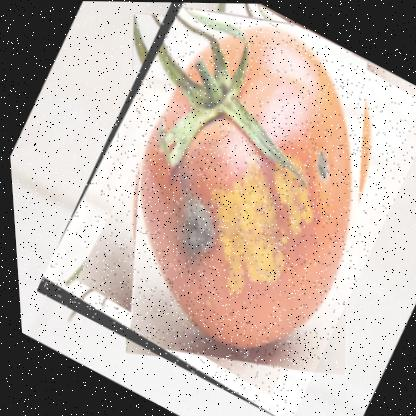tomato_rotten: (16, 0, 415, 415)
